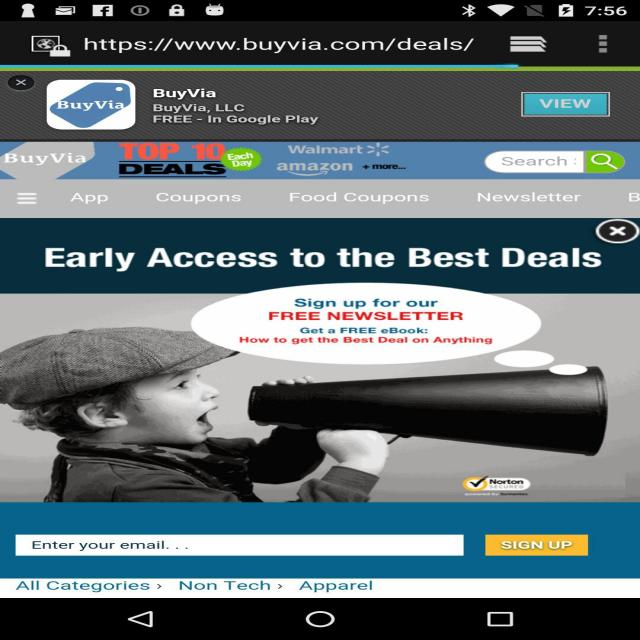button: (281, 186, 438, 209), (485, 533, 590, 557), (148, 188, 251, 208), (524, 92, 611, 115), (470, 190, 586, 206), (497, 30, 560, 58), (578, 36, 628, 60), (593, 217, 637, 244), (64, 189, 116, 208), (9, 76, 33, 89), (621, 189, 640, 202)
icon: (498, 30, 568, 61), (21, 32, 74, 60), (586, 26, 631, 56), (598, 219, 640, 245), (9, 187, 48, 214), (587, 150, 625, 172), (8, 75, 36, 90), (152, 582, 163, 591), (275, 582, 287, 590)
image: (0, 294, 638, 504), (0, 142, 640, 180), (48, 80, 138, 129)
text: (42, 244, 610, 275), (245, 300, 498, 349), (77, 32, 486, 56), (109, 140, 234, 180), (284, 188, 435, 206), (273, 159, 412, 175), (32, 540, 193, 553), (151, 115, 325, 126), (282, 143, 400, 158), (151, 188, 248, 206), (11, 580, 149, 592), (474, 190, 584, 205), (293, 581, 385, 596), (147, 102, 256, 114), (175, 580, 274, 593), (6, 151, 91, 166), (151, 86, 224, 102), (499, 156, 572, 169), (58, 98, 128, 111), (496, 540, 574, 551), (468, 477, 524, 492), (538, 97, 599, 110), (68, 191, 113, 207), (227, 152, 260, 167), (626, 189, 640, 202)
